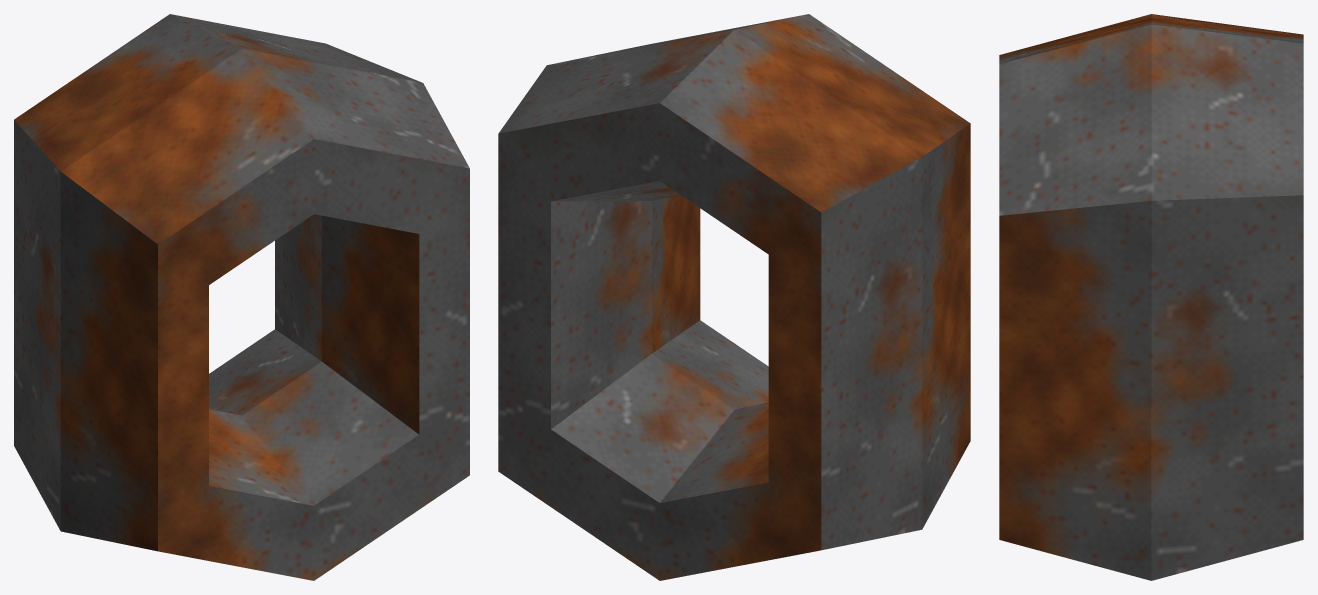
The model's file is Chainlink.fbx.
3 renders of one model, left to right at view 1: azimuth 30°, elevation 25°; view 2: azimuth 150°, elevation 25°; view 3: azimuth 270°, elevation 25°, orthographic. The views are drawn at different scales.
Parts seen in each view (by area): view 1: Chainlink.001; view 2: Chainlink.001; view 3: Chainlink.001.
Boxes of the visible parts, x1,y1,x2,y2 form: Chainlink.001: (14, 14, 469, 580); Chainlink.001: (498, 14, 970, 580); Chainlink.001: (999, 14, 1303, 580).
Size of the model in its own units: 0.1171 by 0.1597 by 0.0807.
Materials: 1 (1 with a texture image).
